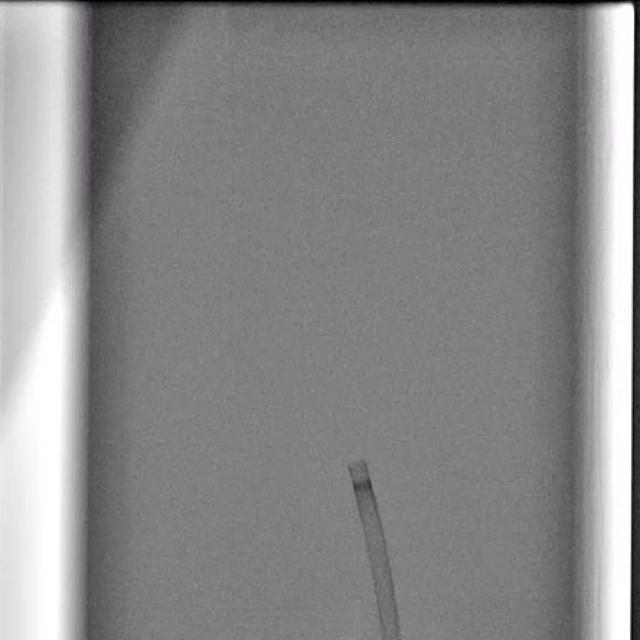entry: (380, 631, 402, 640)
marker: (352, 479, 372, 494)
tip: (347, 460, 369, 474)
